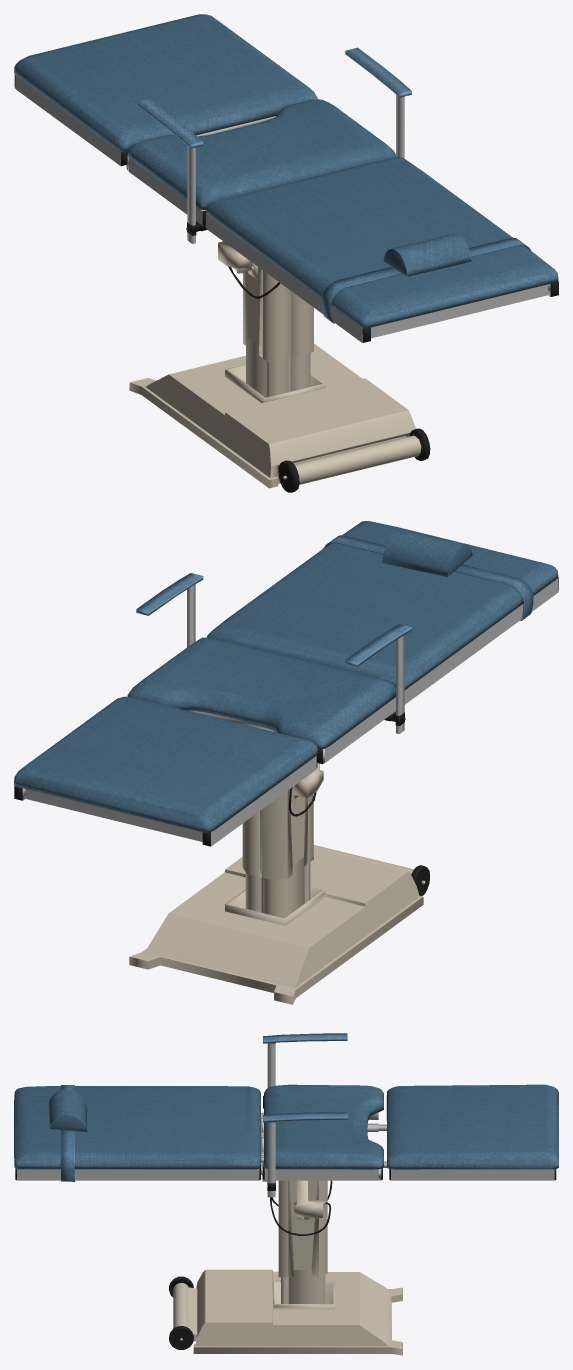
Rendered from table.fbx.
The picture shows the model from 3 angles, top to bottom: view 1: azimuth 30°, elevation 25°; view 2: azimuth 150°, elevation 25°; view 3: azimuth 270°, elevation 25°; orthographic projection. The views are drawn at different scales.
Parts seen in each view (by area): view 1: table; view 2: table; view 3: table.
Boxes of the visible parts, left/top/right/bottom form: table: left=14, top=14, right=558, bottom=492; table: left=14, top=521, right=558, bottom=1004; table: left=14, top=1033, right=558, bottom=1355.
Size of the model in its own units: 61.22 by 85.26 by 169.
